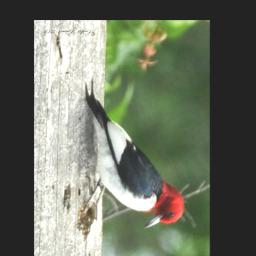Woodpecker: (86, 82, 185, 230)
